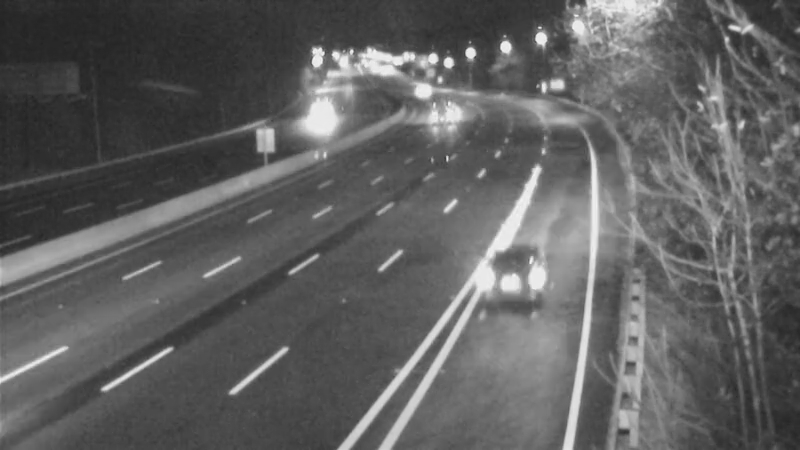vehicle: (471, 246, 551, 326), (390, 63, 440, 113), (414, 86, 464, 136), (295, 93, 345, 143)
